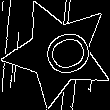O_SW: (26, 23, 91, 83)
